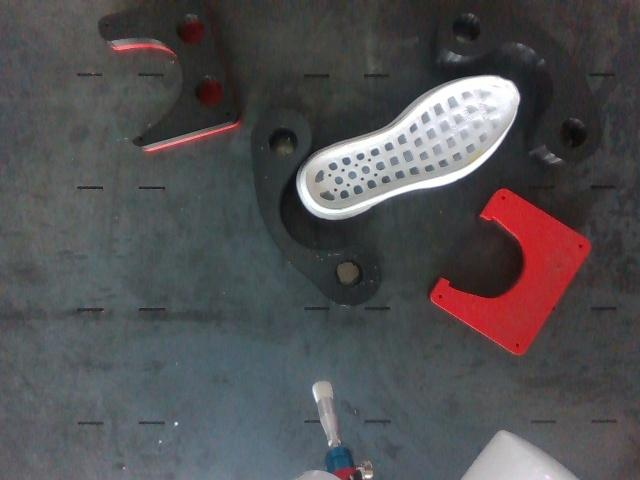shoes: (305, 78, 518, 210)
